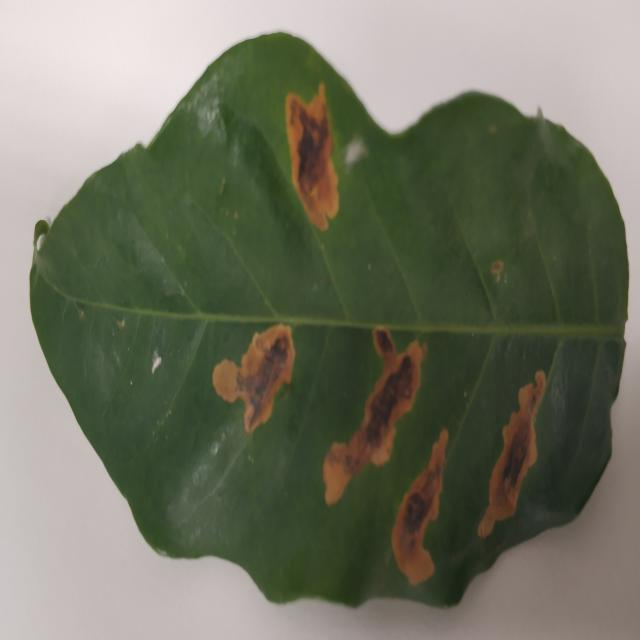Plaga-Minador: (28, 31, 630, 612)
